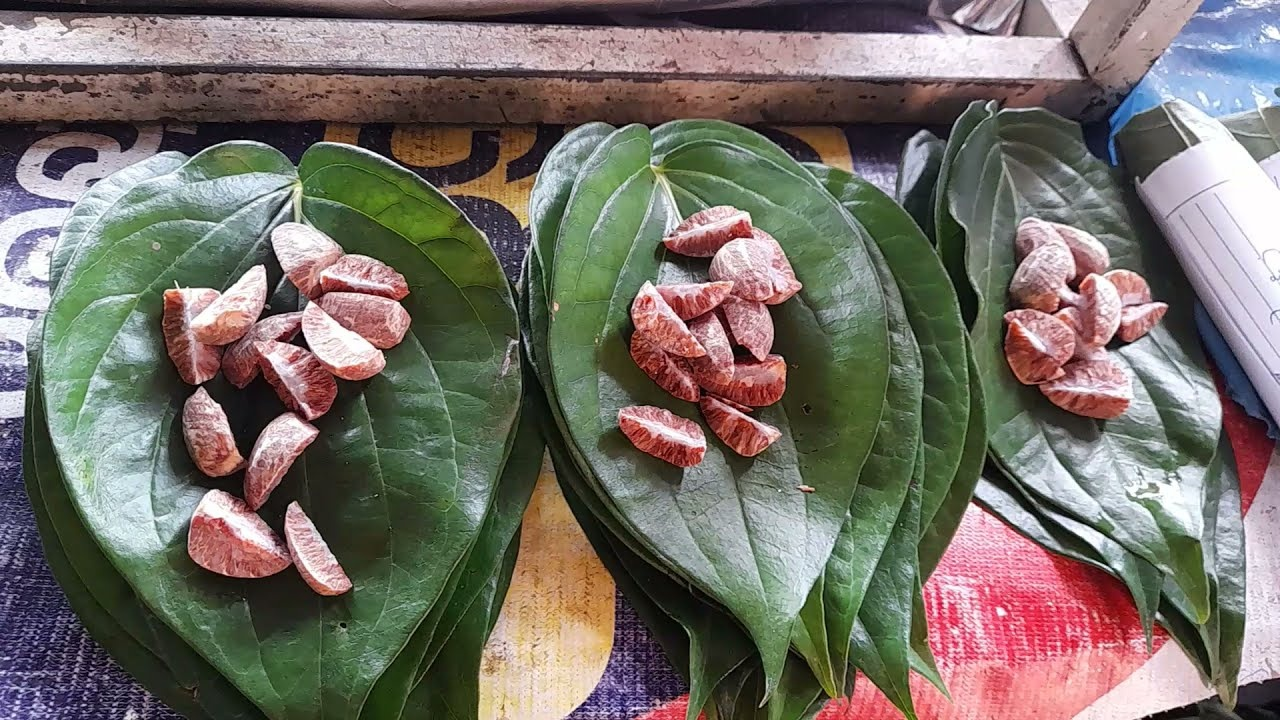bulathwita: (20, 138, 522, 718), (525, 111, 975, 714), (937, 93, 1249, 711)
